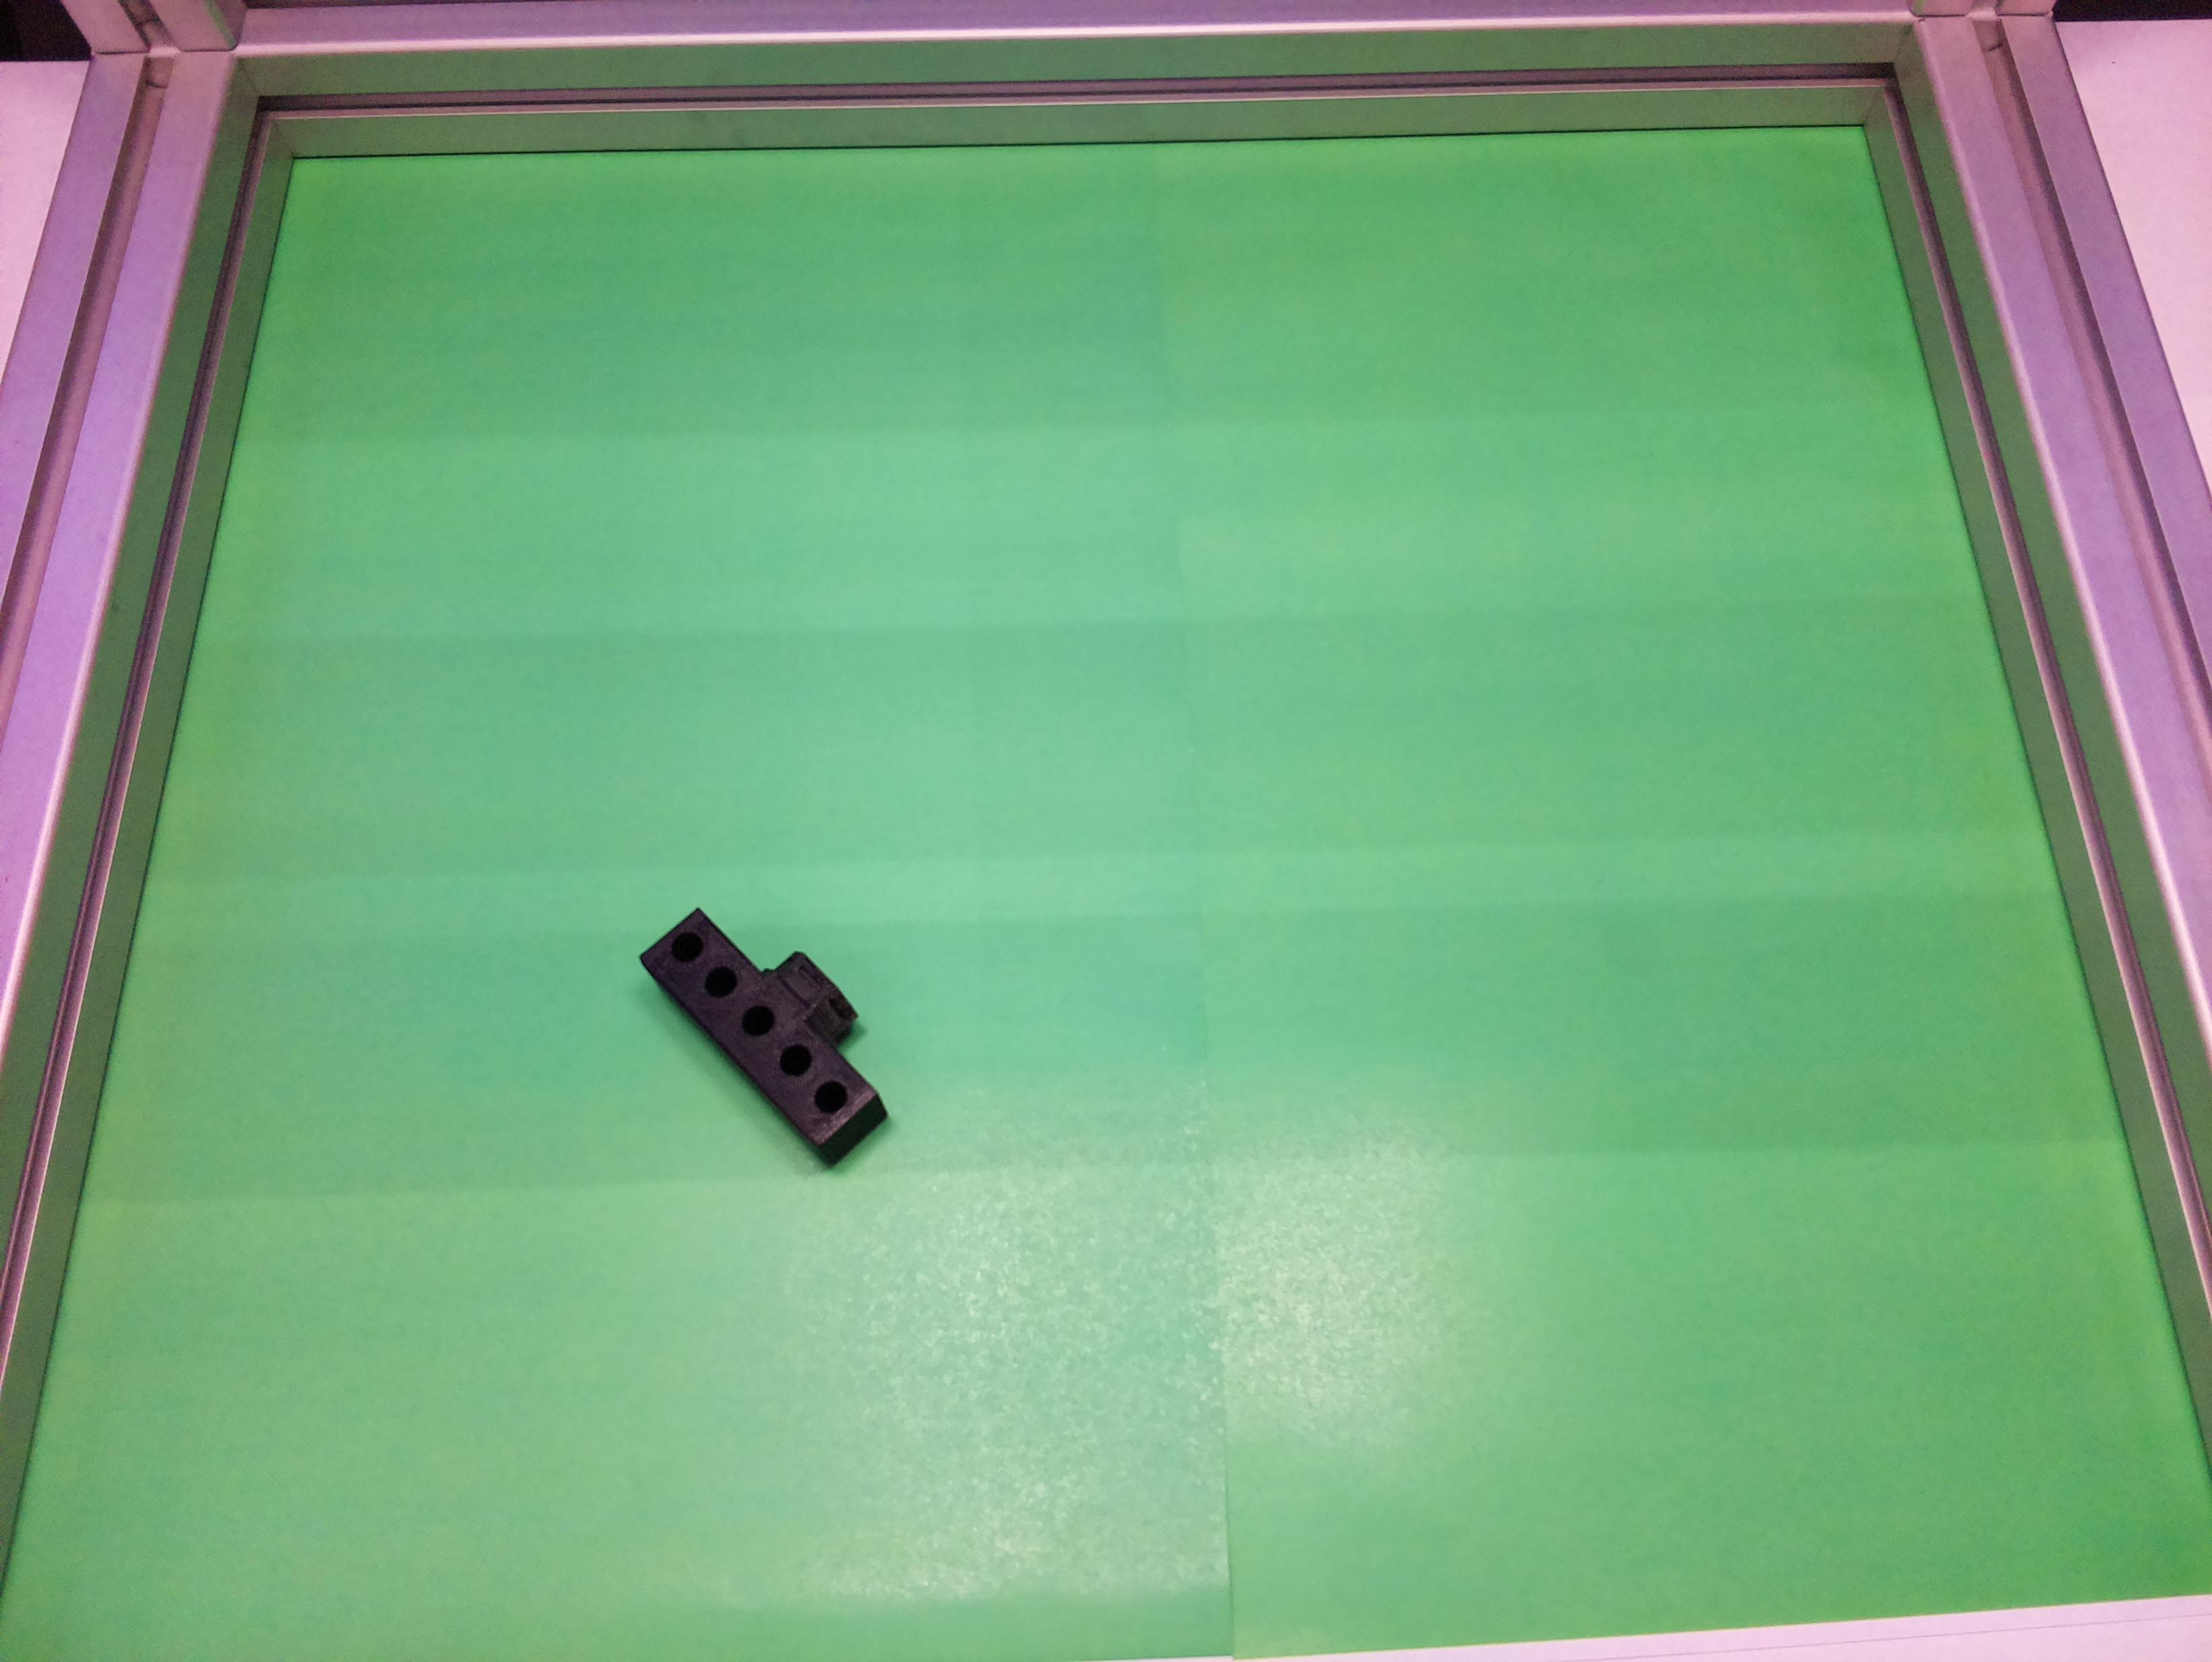bit_holder: (635, 871, 925, 1170)
